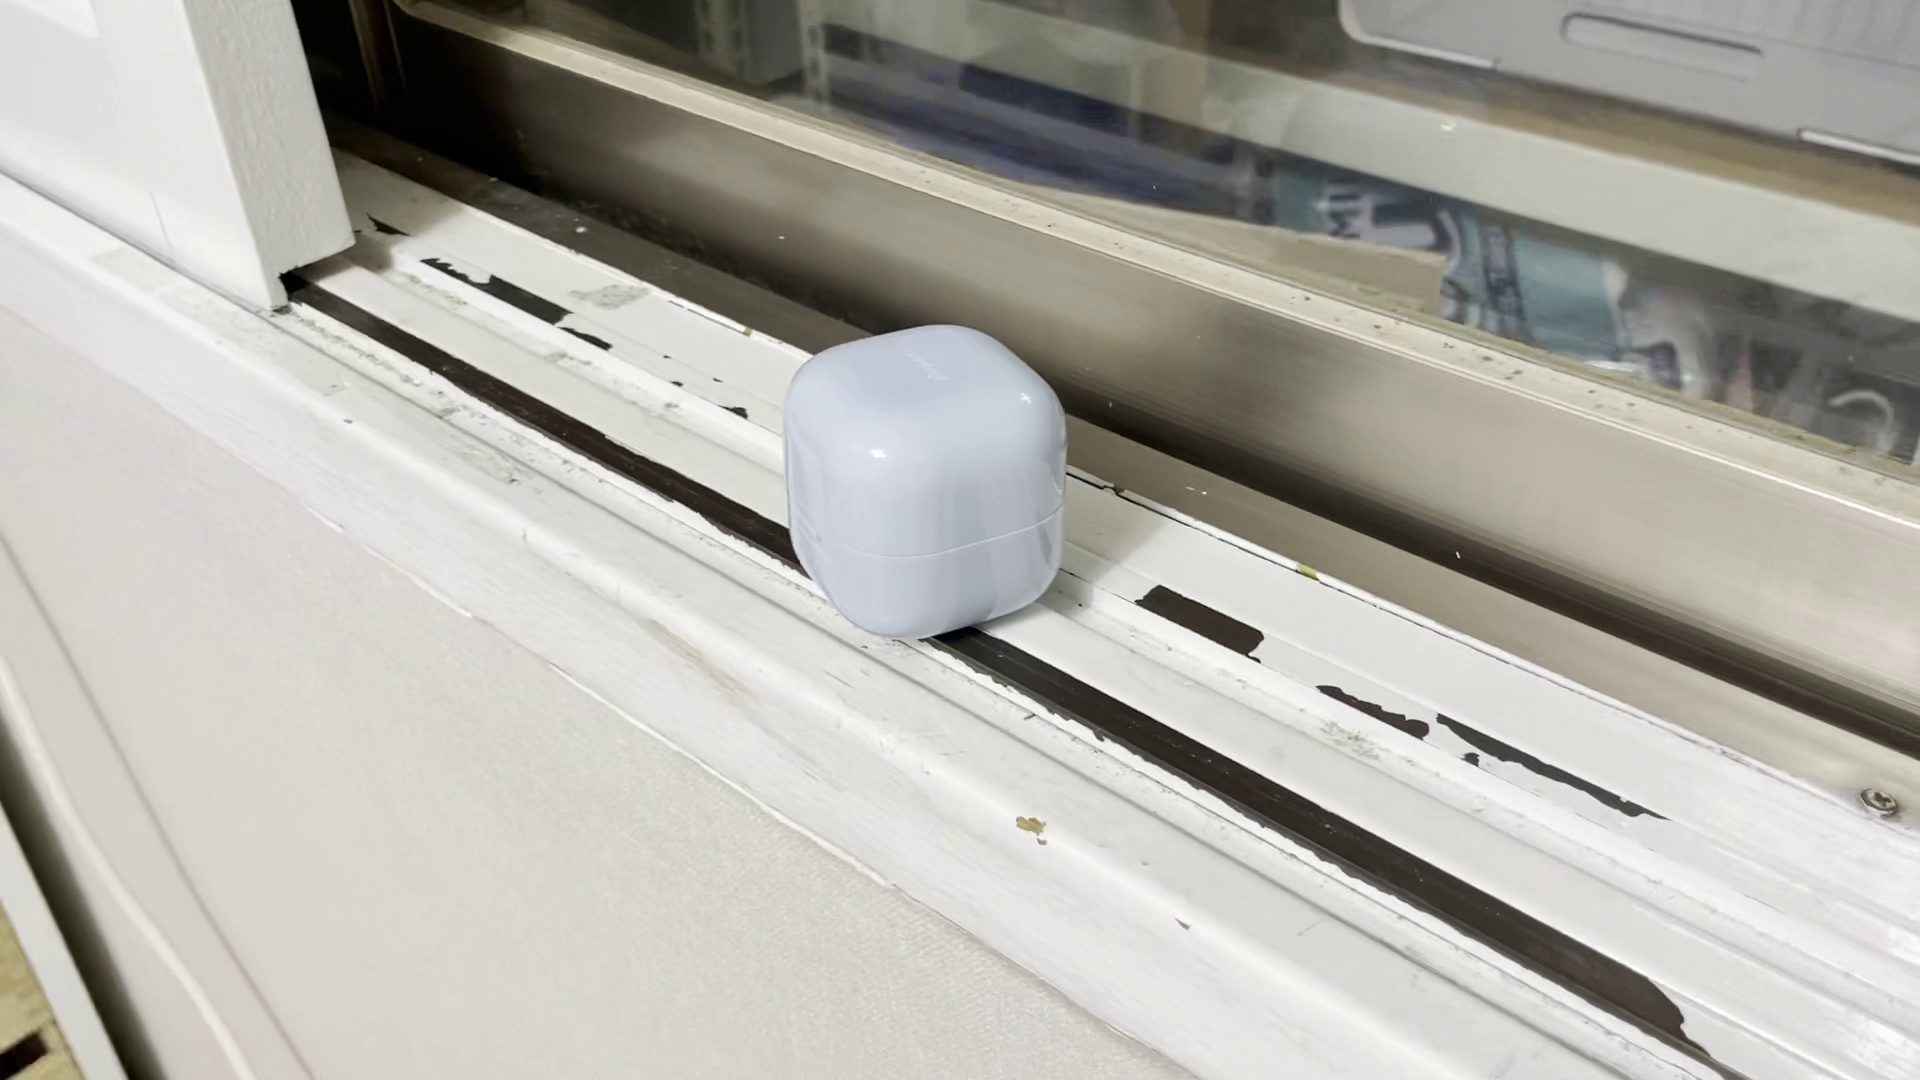cream: (791, 323, 1065, 644)
